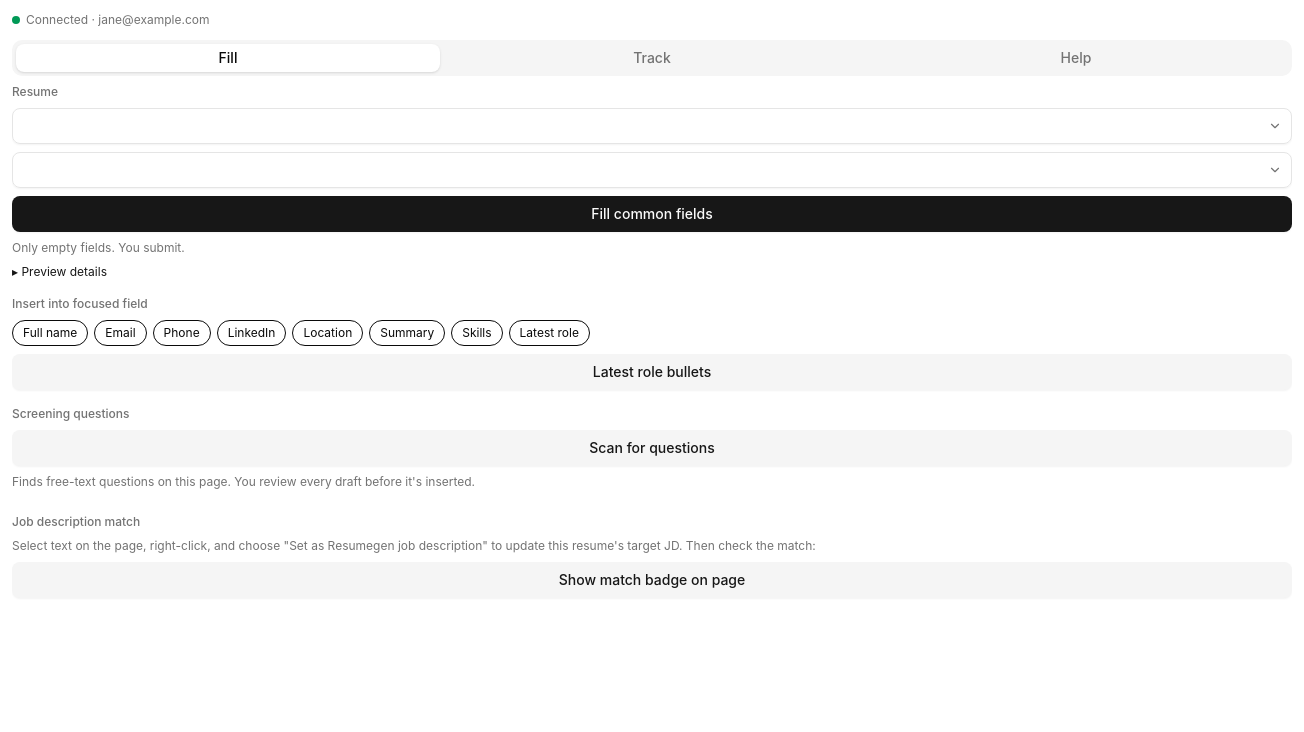
Test case: ReadyView › switches to the Help tab and shows help content
The width and height of the screenshot is (1304, 732).
Press the mouse on the tab "Help" at (1076, 58), box left=864, top=44, right=1288, bottom=72
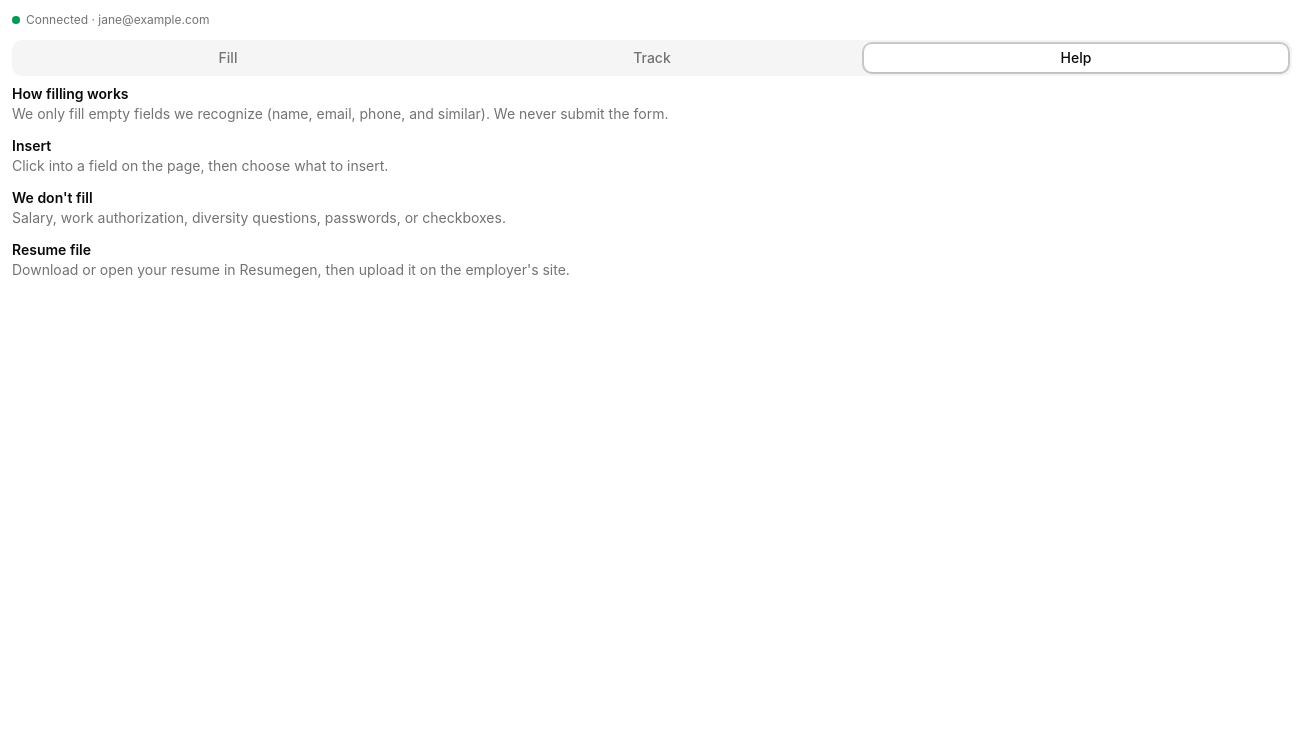
Check: the heading "How filling works" is shown, box left=12, top=85, right=129, bottom=102
